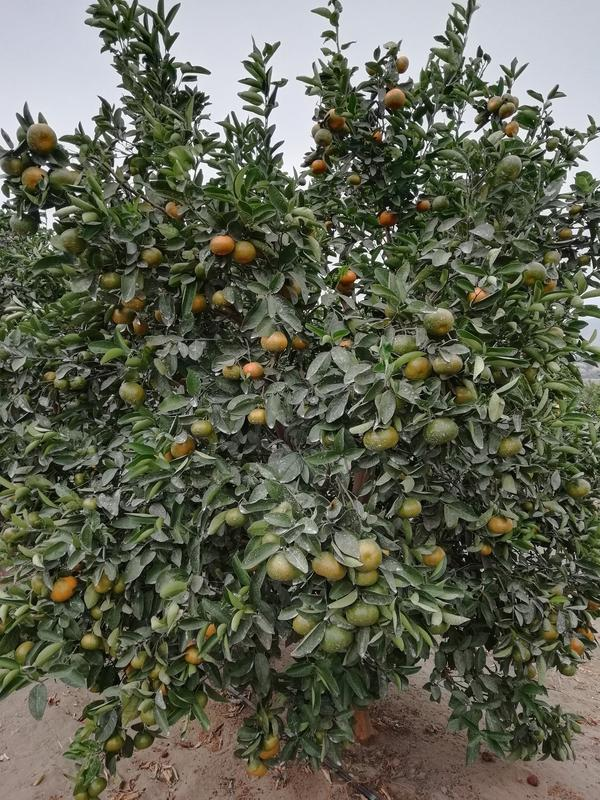mandarina naranja: (27, 124, 56, 152), (53, 577, 76, 601), (230, 242, 255, 262), (384, 87, 405, 110), (210, 235, 234, 255), (22, 167, 46, 187), (489, 516, 513, 533), (424, 549, 445, 567), (379, 209, 397, 227), (244, 361, 262, 377), (499, 102, 516, 117), (311, 159, 326, 174), (341, 269, 356, 283), (397, 56, 409, 73), (488, 94, 499, 112), (416, 201, 431, 214)
mandarina verde: (267, 554, 302, 582), (319, 625, 354, 652), (424, 418, 459, 445), (364, 426, 399, 452), (356, 538, 382, 570), (344, 603, 379, 626), (314, 554, 342, 581), (424, 309, 455, 333), (292, 614, 322, 637), (520, 262, 547, 287), (9, 213, 39, 234), (405, 357, 430, 381), (432, 354, 462, 374), (496, 156, 522, 177), (120, 381, 145, 402), (397, 498, 422, 517), (264, 332, 287, 352), (499, 437, 522, 456), (140, 248, 163, 265), (570, 478, 591, 496), (134, 731, 153, 750), (89, 776, 107, 796), (190, 420, 212, 436), (82, 632, 100, 650), (226, 507, 244, 525), (314, 129, 333, 145), (101, 272, 119, 288), (69, 375, 88, 390), (185, 647, 201, 664), (558, 664, 577, 677), (248, 409, 264, 424), (106, 737, 121, 752), (53, 378, 69, 391)
